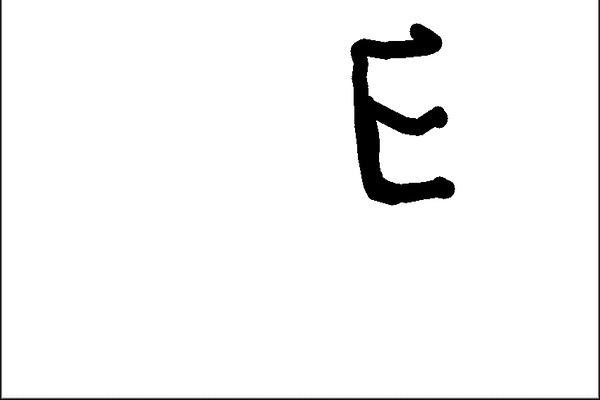E: (342, 19, 464, 208)
